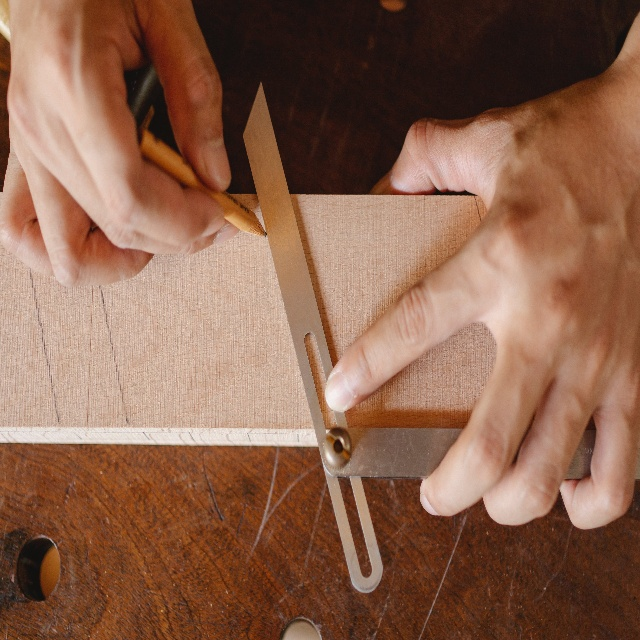Sin_guantes: (324, 59, 640, 530), (0, 0, 241, 290)
